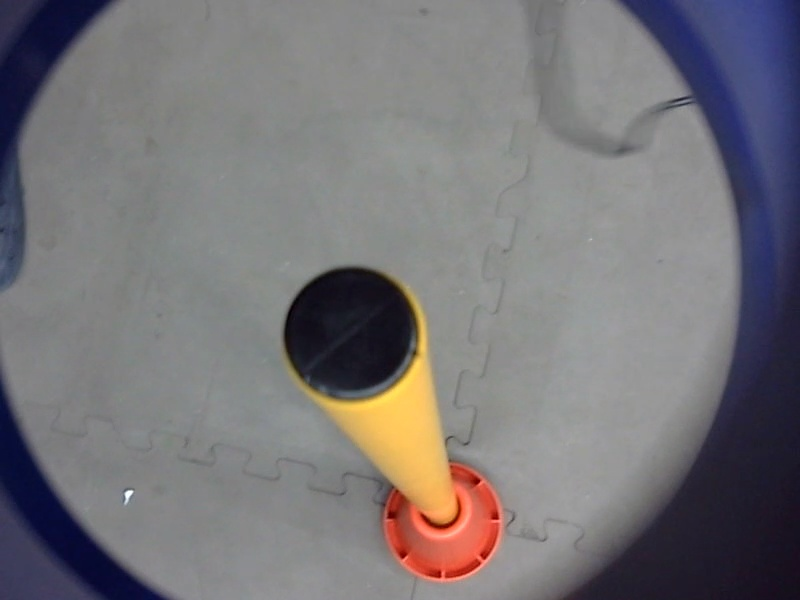tip: (272, 259, 434, 411)
